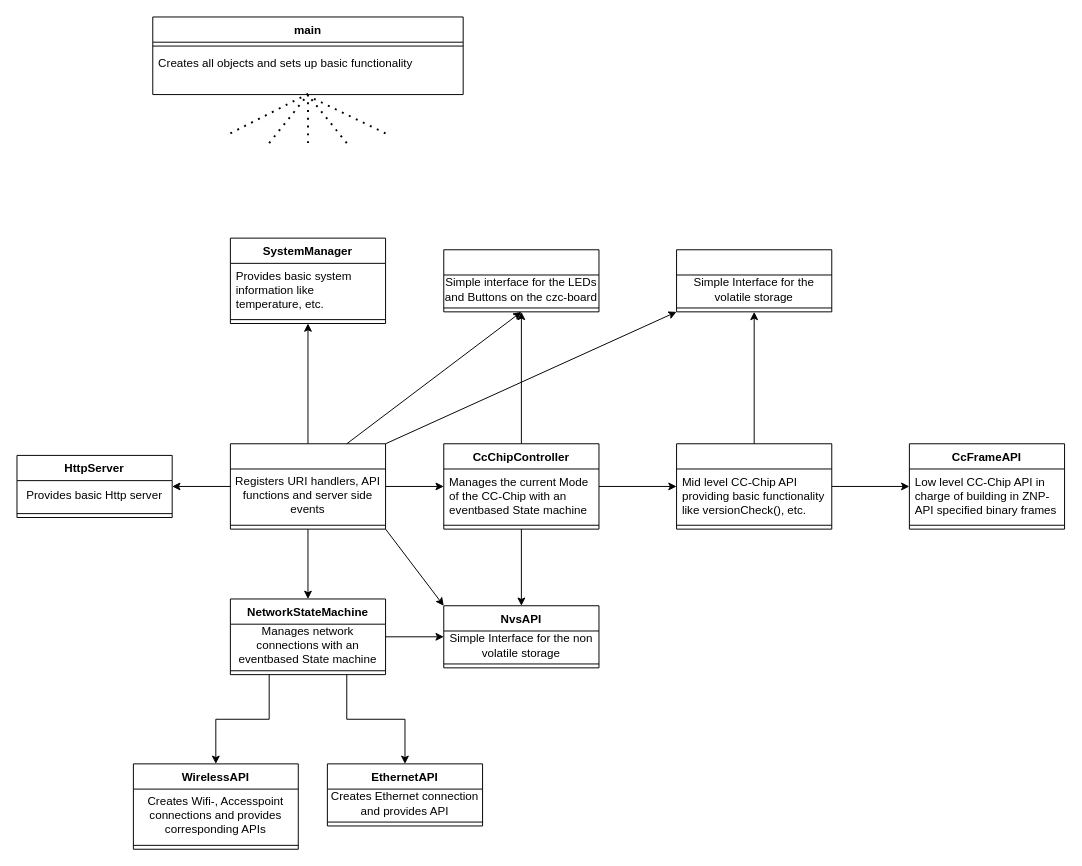
Some shapes in this 1082 by 866 pixel diagram are drawn without their labels. Each missing label, with the box of its shape:
CcZnpAPI: (676, 443, 832, 529)
FilesystemAPI: (676, 249, 832, 312)
IoAPI: (443, 249, 599, 312)
RestAPI: (229, 443, 386, 529)
